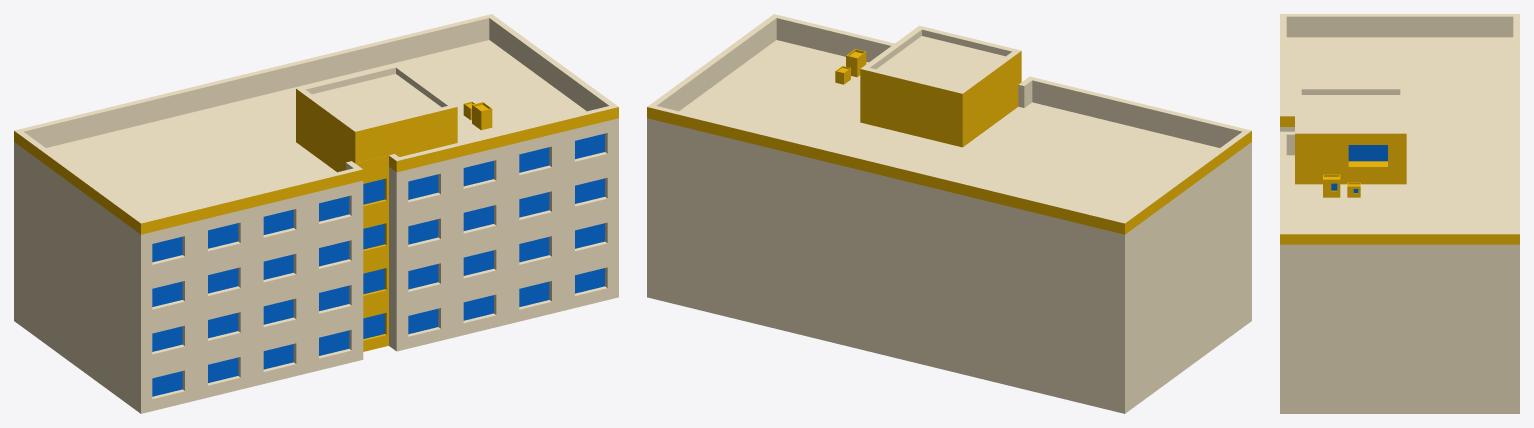
The model's file is 영어교육관.fbx.
3 renders of one model, left to right at view 1: azimuth 30°, elevation 25°; view 2: azimuth 150°, elevation 25°; view 3: azimuth 270°, elevation 25°, orthographic. The views are drawn at different scales.
Visible parts, largest first — view 1: 실용영어교육관, Cube_10, Cube_45, Cube_44, Cube_46; view 2: 실용영어교육관, Cube_10; view 3: 실용영어교육관, Cube_10, Cube_47, Cube_11.
Part boxes in pixels (bbox=[...]): 실용영어교육관: bbox=[14, 14, 618, 413]; Cube_10: bbox=[296, 63, 457, 172]; Cube_45: bbox=[152, 196, 349, 396]; Cube_44: bbox=[408, 133, 604, 334]; Cube_46: bbox=[363, 179, 384, 338]; 실용영어교육관: bbox=[647, 14, 1251, 413]; Cube_10: bbox=[860, 25, 1021, 147]; 실용영어교육관: bbox=[1280, 14, 1519, 413]; Cube_10: bbox=[1295, 86, 1406, 184]; Cube_47: bbox=[1348, 145, 1387, 161]; Cube_11: bbox=[1323, 174, 1340, 197].
Size of the model in its own units: 558 by 248 by 257.
